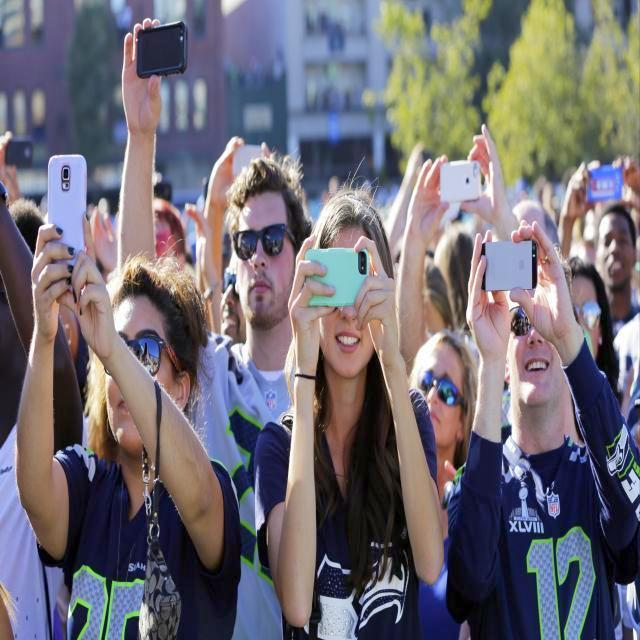lens: (356, 252, 368, 274), (61, 167, 71, 189)
phone: (47, 154, 86, 268), (304, 246, 371, 309), (479, 238, 539, 292), (134, 23, 188, 78), (439, 159, 483, 203), (585, 165, 623, 203), (5, 136, 35, 170)
